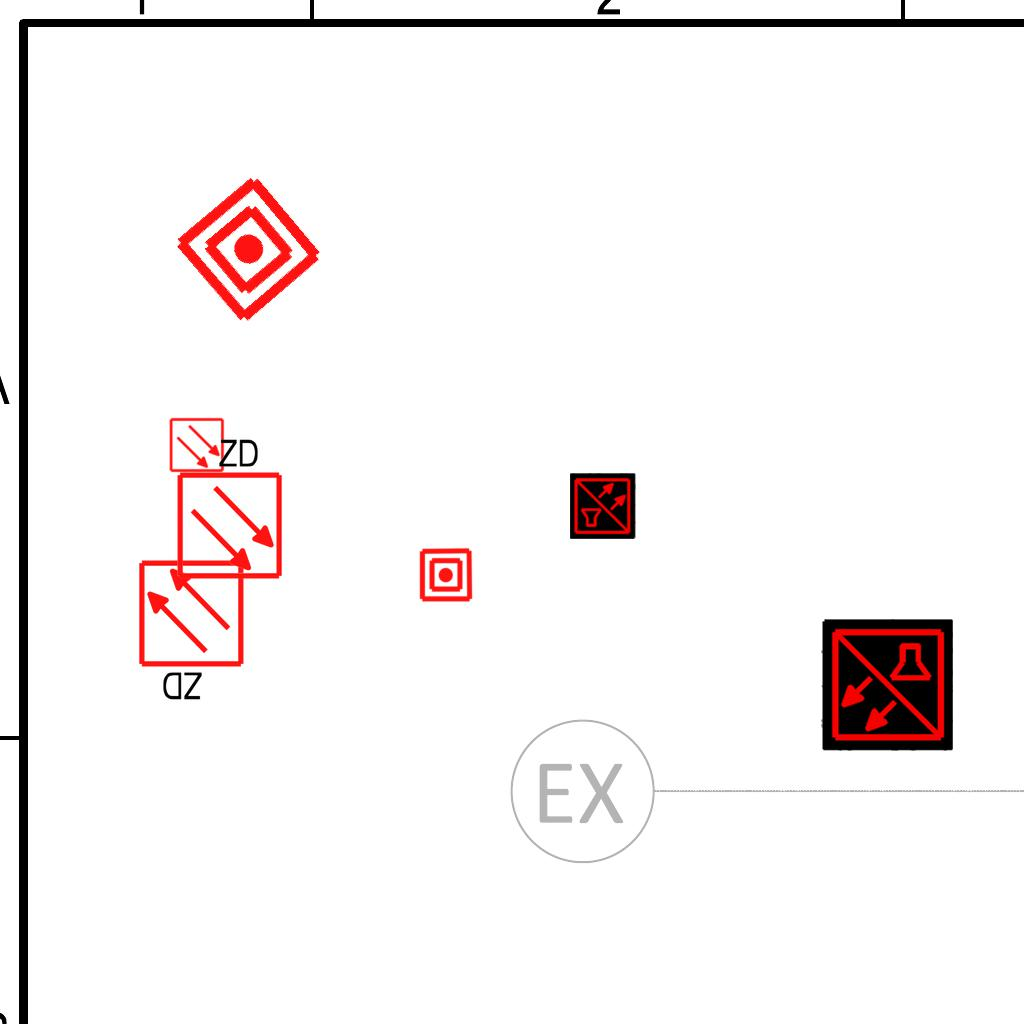NAM-Nichtautomatischer_Melder: (168, 169, 329, 330), (418, 547, 474, 603)
OKW_Multisensormelder_(Kombination_optischer_Rauch-Kahlenmonoxid_Waerme-Melder): (821, 619, 953, 751), (570, 473, 636, 539)
RMO_Rauchmelder_optischer: (169, 417, 225, 473)
ZD_Melder_in_Zwischendecke_mit_Revisionsoeffnung_mind_40_x_40_cm: (136, 558, 250, 707), (171, 432, 285, 581)
